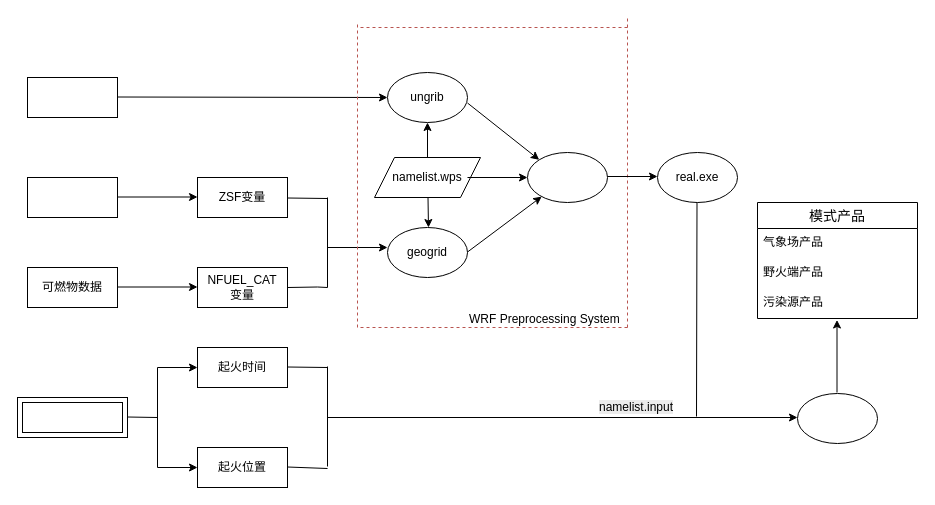
Some shapes in this 935 by 505 pixel diagram are drawn without their labels. The centre of each missing label's shape, as x and y in pixels:
"DEM" goes at point (72, 197).
"metgrid" goes at point (567, 177).
"wrf.exe" goes at point (837, 418).
"京津冀热源点 遥感实时监测系统" goes at point (72, 417).
"气象驱动背景场" goes at point (72, 97).
